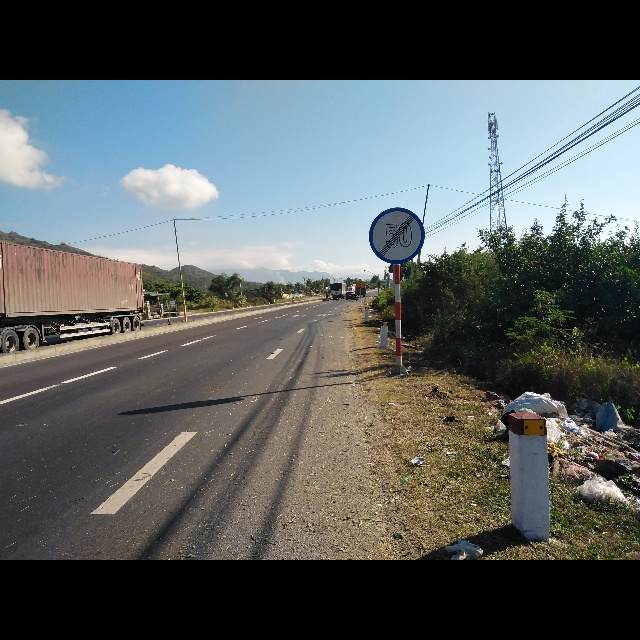Hết hạn chế tốc độ tối đa 50km/h: (369, 205, 426, 265)
